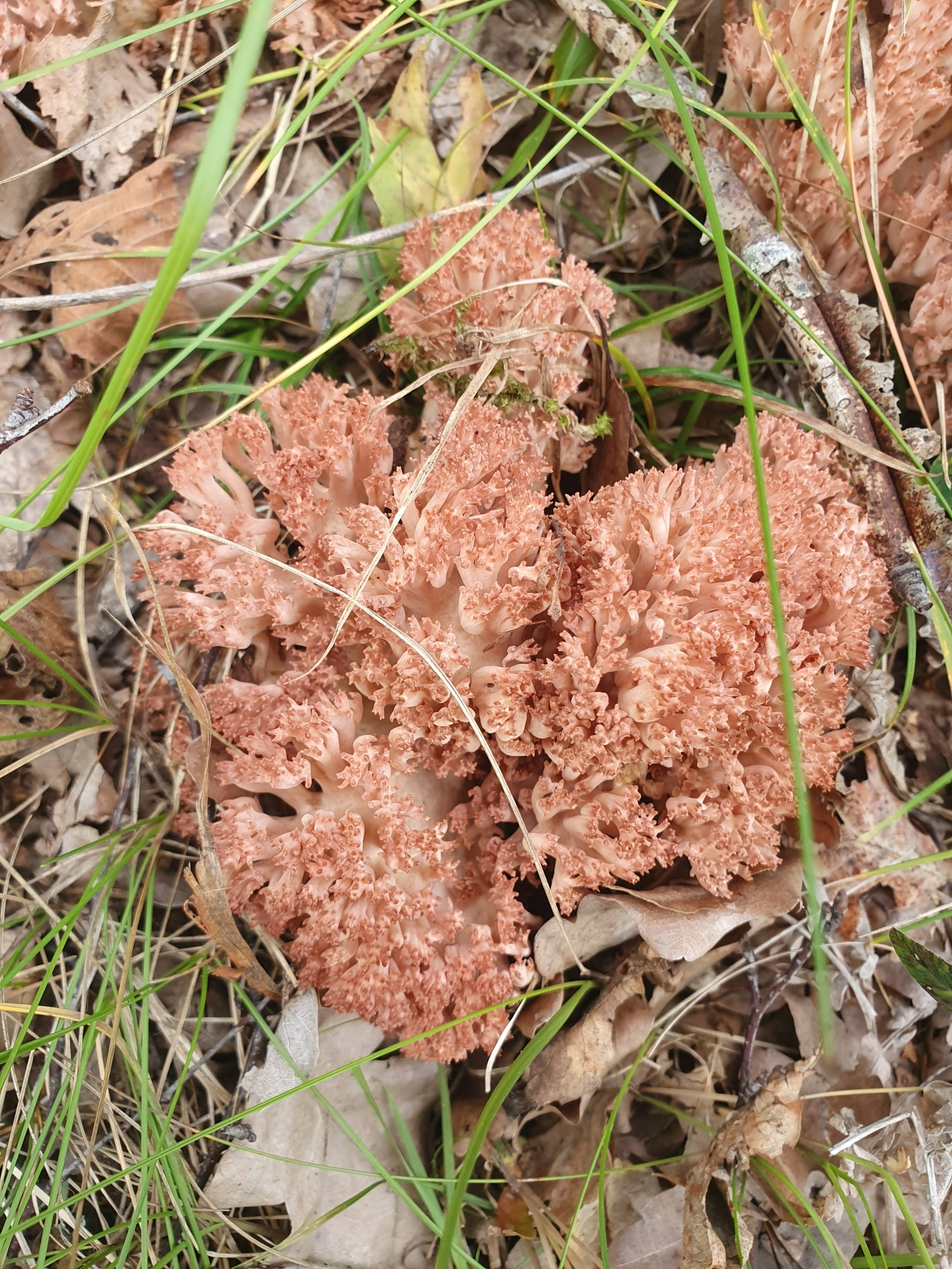Coral: (143, 210, 793, 1037), (720, 0, 951, 406), (759, 415, 890, 788)
